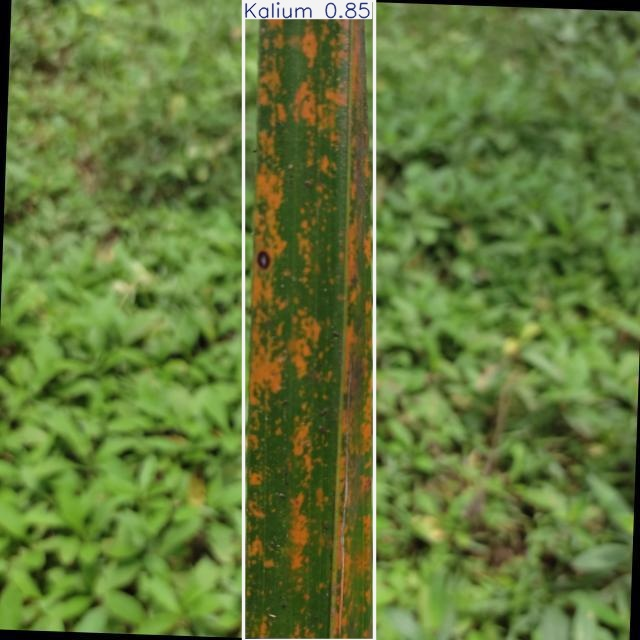Kalium: (244, 1, 374, 640)
